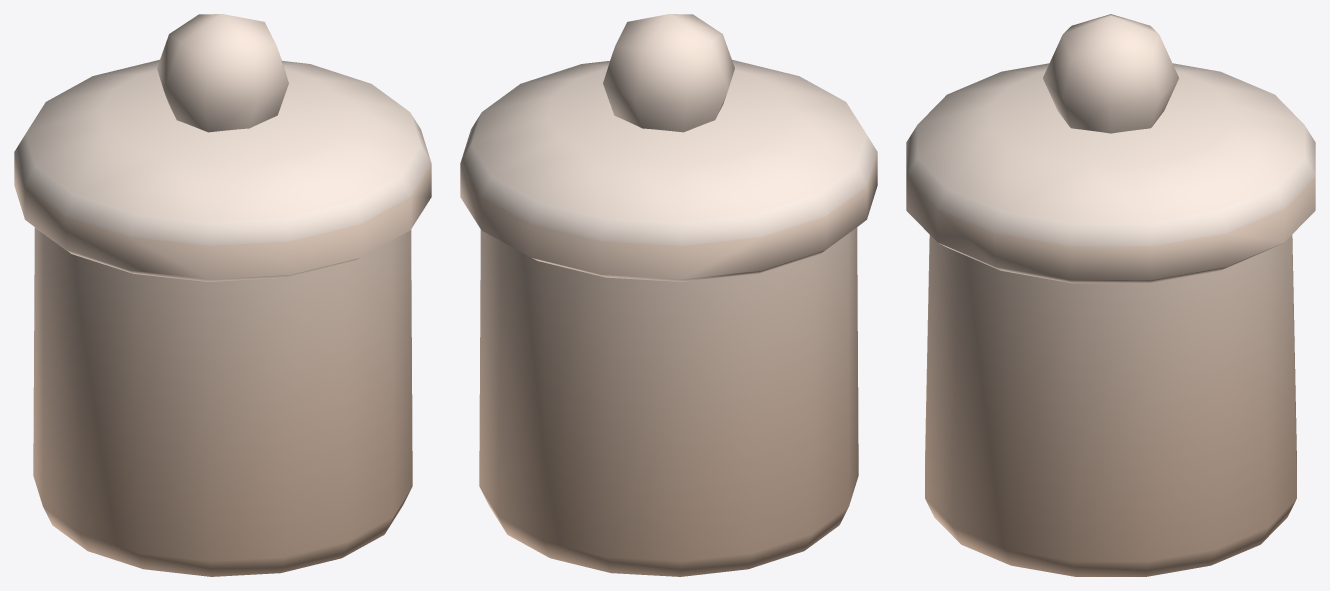
Rendered from Container Kitchen A-qlI5D097uW.glb.
The picture shows the model from 3 angles, left to right: view 1: azimuth 30°, elevation 25°; view 2: azimuth 150°, elevation 25°; view 3: azimuth 270°, elevation 25°; orthographic projection.
Visible parts, largest first — view 1: container_kitchen_A_white; view 2: container_kitchen_A_white; view 3: container_kitchen_A_white.
Boxes of the visible parts, x1,y1,x2,y2 form: container_kitchen_A_white: [14, 14, 431, 576]; container_kitchen_A_white: [460, 14, 877, 576]; container_kitchen_A_white: [906, 14, 1315, 576].
Bounding box in the file's own units: 0.4 × 0.5329 × 0.4.
1 material, 1 textured.
